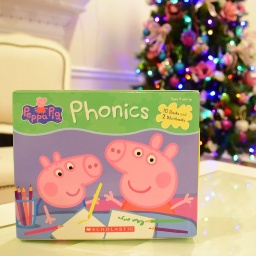Peppa: (103, 132, 194, 216)
